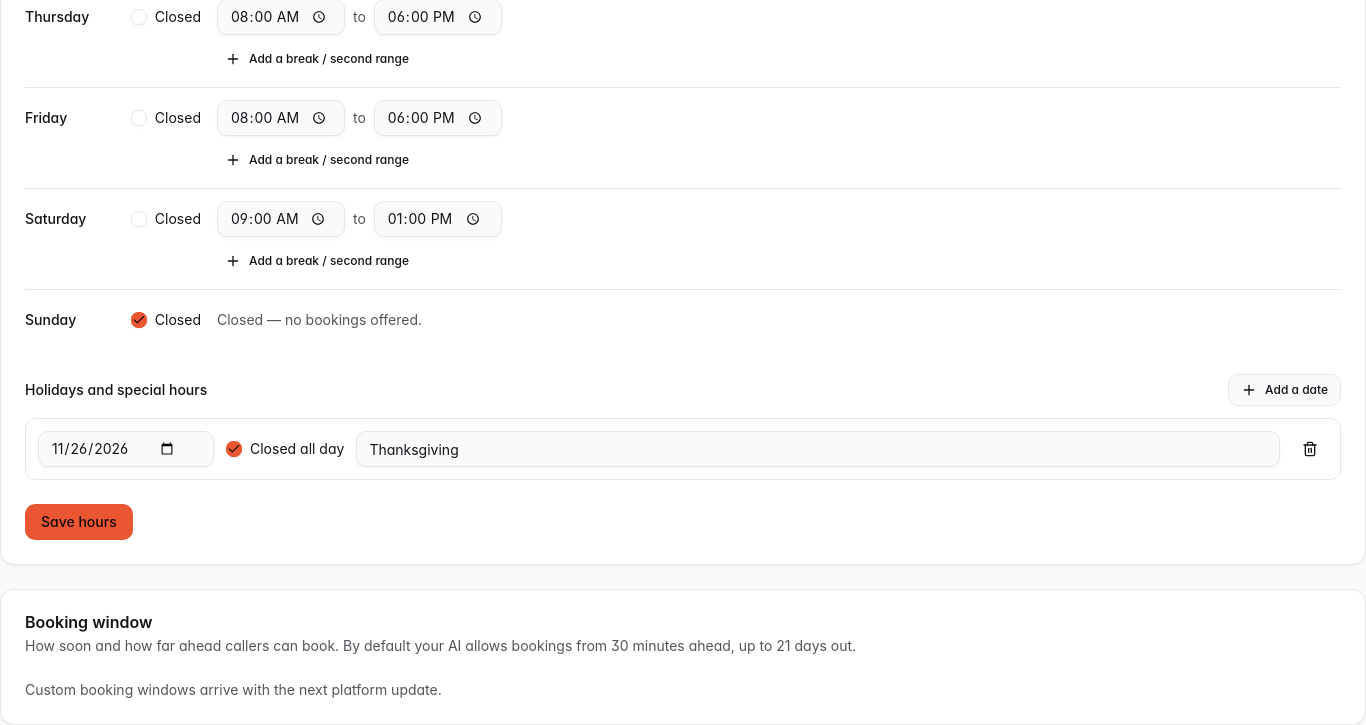
it: HoursTabPage (SETTINGS-1) › blocks a blank holiday date and a backwards time range before posting
(page scrolled)
Expected: the checkbox named "Sunday closed" is shown, x1=131 y1=312 x2=147 y2=328
Click the button "Add a date". click: (1285, 390)
box: x1=1228 y1=374 x2=1341 y2=406
(page scrolled)
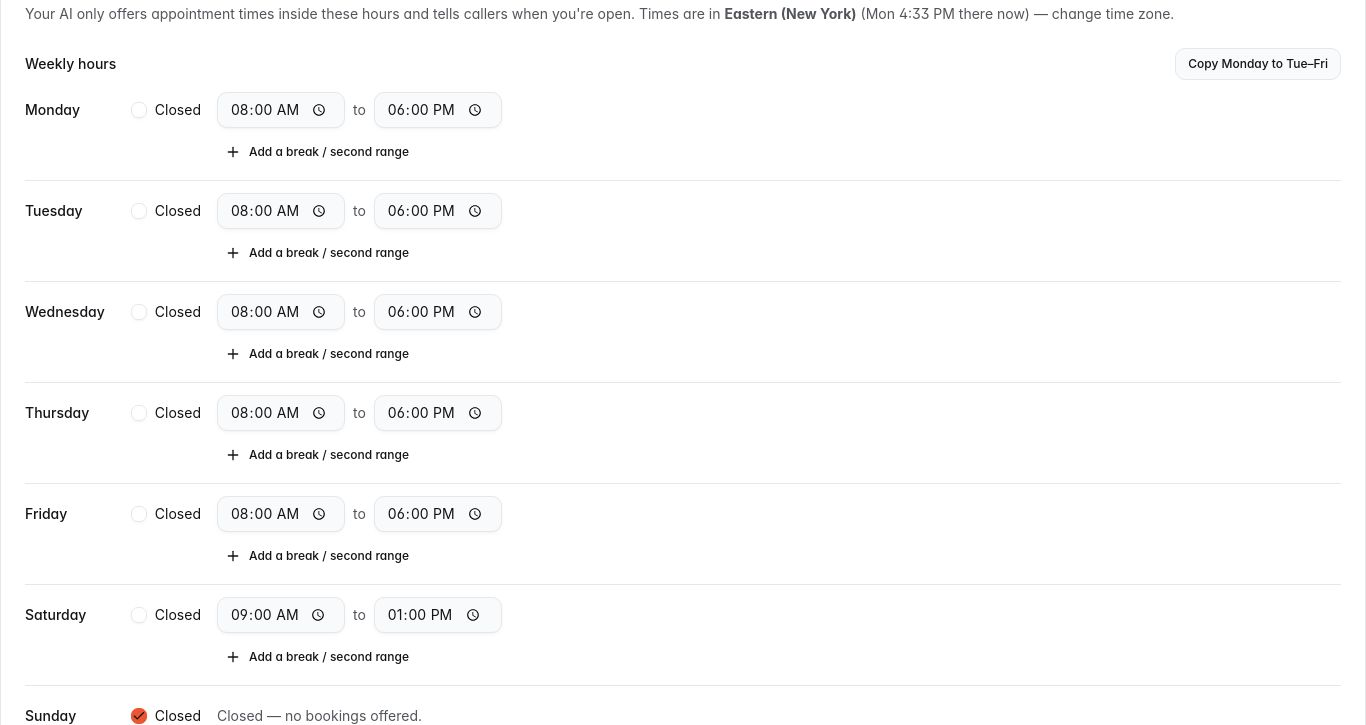
Replace the text in the time field named "Monday closing time" with "07:00". click: (438, 110)
box: x1=374 y1=92 x2=502 y2=128
(page scrolled)
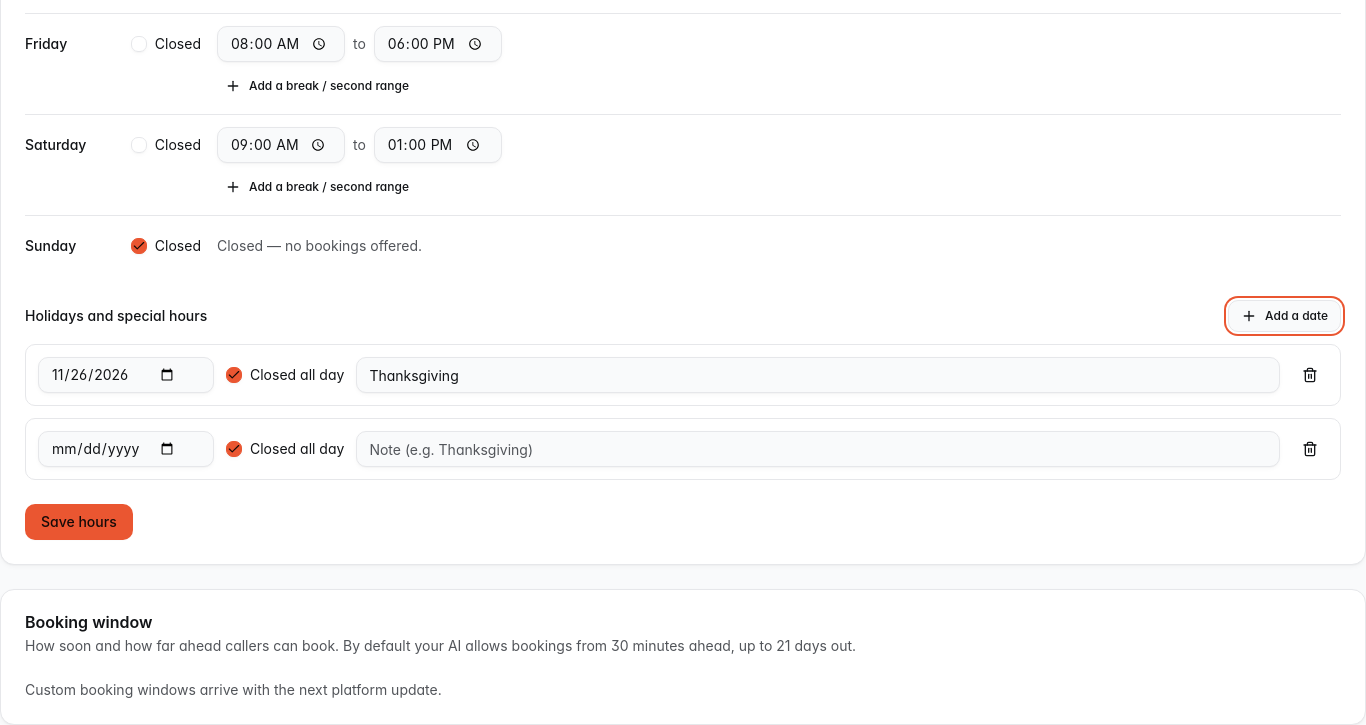
Click the button "Save hours". click: (79, 522)
box: x1=25 y1=504 x2=133 y2=540
(page scrolled)
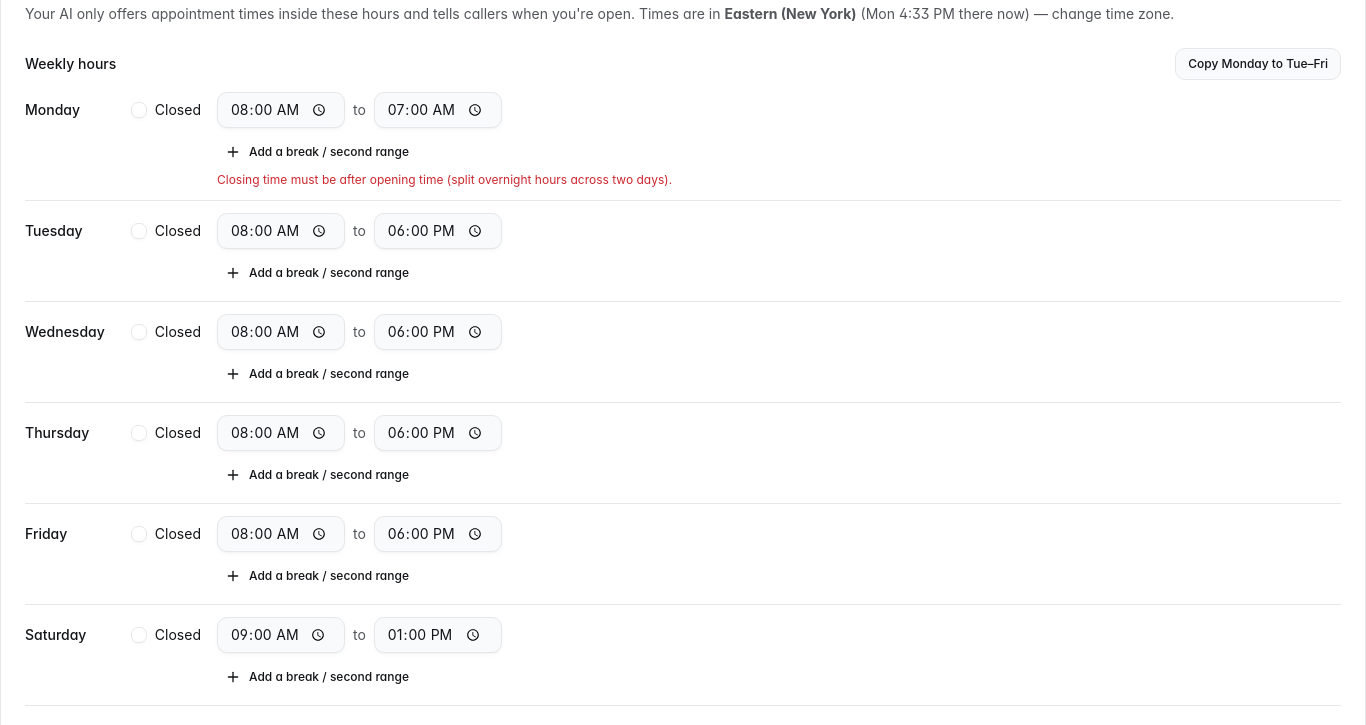
Expected: the text "Closing time must be after opening time" is shown, x1=217 y1=172 x2=672 y2=187
